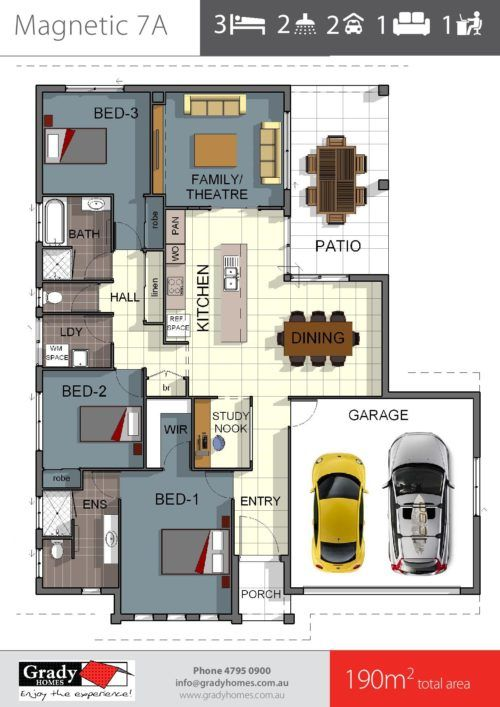wall: (124, 84, 291, 92), (36, 86, 43, 203), (382, 274, 388, 400), (383, 392, 479, 398), (473, 517, 480, 594), (473, 391, 481, 455), (232, 555, 239, 620), (37, 587, 81, 595), (36, 450, 43, 498), (348, 274, 389, 282), (36, 242, 43, 288), (114, 588, 122, 623), (284, 554, 291, 594), (35, 84, 67, 92), (284, 85, 292, 113), (284, 188, 291, 218), (219, 613, 242, 622), (36, 364, 43, 392), (36, 529, 43, 550), (152, 613, 168, 622), (100, 588, 120, 595), (461, 588, 480, 594), (36, 577, 43, 593), (284, 588, 302, 594), (186, 614, 200, 621)
